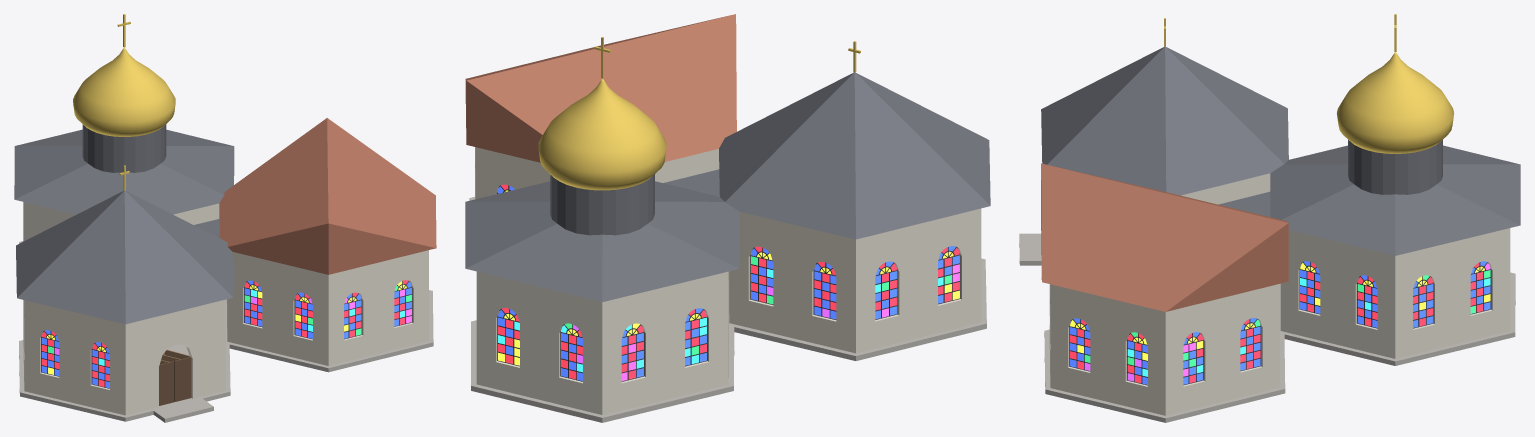
Rendered from churchv4.glb.
3 views of the same model, side by side, from view 1: azimuth 30°, elevation 25°; view 2: azimuth 150°, elevation 25°; view 3: azimuth 270°, elevation 25° (orthographic). The views are drawn at different scales.
Visible parts, largest first — view 1: Roof_ang, Roof_rom, Walls_roman, Walls_anglican, Roof_orth, Dome, Floor, Lead_cames, StainedGlass_cobalt, Walls_orthodox, StainedGlass_ruby, Door; view 2: Roof_rom, Roof_orth, Walls_orthodox, Walls_roman, Roof_ang, Dome, Floor, Walls_anglican, Lead_cames, StainedGlass_cobalt, StainedGlass_ruby, StainedGlass_amber (+3 smaller); view 3: Roof_ang, Roof_rom, Roof_orth, Walls_anglican, Walls_orthodox, Dome, Floor, StainedGlass_cobalt, Lead_cames, StainedGlass_ruby, Walls_roman, StainedGlass_amber (+2 smaller).
Boxes of the visible parts, left/top/right/bottom form: Roof_ang: left=219, top=118, right=436, bottom=274; Roof_rom: left=16, top=190, right=233, bottom=324; Walls_roman: left=23, top=299, right=225, bottom=415; Walls_anglican: left=226, top=250, right=428, bottom=365; Roof_orth: left=14, top=124, right=234, bottom=214; Dome: left=73, top=47, right=175, bottom=136; Floor: left=19, top=241, right=433, bottom=422; Lead_cames: left=41, top=281, right=412, bottom=388; StainedGlass_cobalt: left=41, top=280, right=411, bottom=388; Walls_orthodox: left=23, top=202, right=219, bottom=241; StainedGlass_ruby: left=41, top=280, right=408, bottom=386; Door: left=159, top=357, right=190, bottom=405; Roof_rom: left=719, top=72, right=990, bottom=239; Roof_orth: left=465, top=174, right=739, bottom=302; Walls_orthodox: left=476, top=271, right=728, bottom=414; Walls_roman: left=728, top=208, right=981, bottom=353; Roof_ang: left=465, top=14, right=736, bottom=162; Dome: left=538, top=78, right=666, bottom=190; Floor: left=469, top=197, right=986, bottom=422; Walls_anglican: left=475, top=147, right=719, bottom=199; Lead_cames: left=496, top=185, right=960, bottom=381; StainedGlass_cobalt: left=497, top=185, right=959, bottom=380; StainedGlass_ruby: left=498, top=184, right=959, bottom=379; StainedGlass_amber: left=498, top=190, right=959, bottom=365; Roof_ang: left=1041, top=163, right=1288, bottom=311; Roof_rom: left=1041, top=46, right=1288, bottom=195; Roof_orth: left=1270, top=140, right=1520, bottom=255; Walls_anglican: left=1049, top=284, right=1279, bottom=415; Walls_orthodox: left=1280, top=228, right=1510, bottom=358; Dome: left=1336, top=52, right=1454, bottom=153; Floor: left=1019, top=233, right=1515, bottom=422; StainedGlass_cobalt: left=1070, top=261, right=1490, bottom=384; Lead_cames: left=1069, top=262, right=1491, bottom=385; StainedGlass_ruby: left=1070, top=262, right=1483, bottom=383; Walls_roman: left=1181, top=173, right=1270, bottom=204; StainedGlass_amber: left=1070, top=263, right=1490, bottom=360.
Size of what is drawn, in the model's own units: 32.43 by 19.7 by 29.45.
